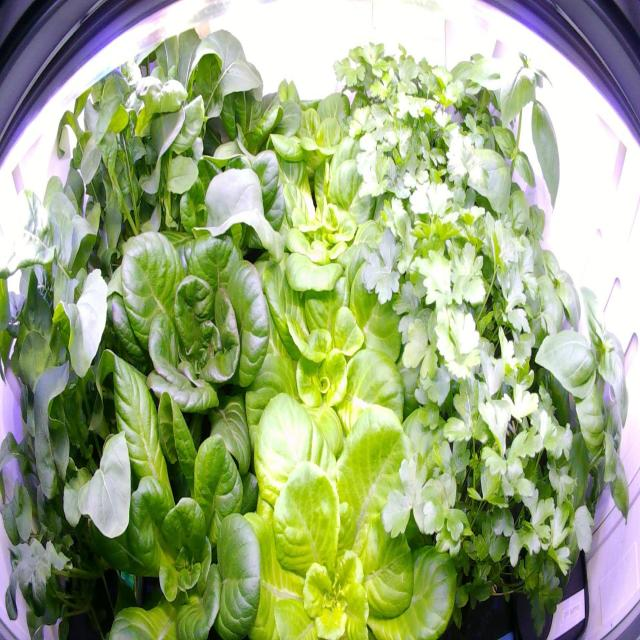Ready: (192, 366, 462, 638), (66, 340, 294, 639), (212, 240, 438, 509), (70, 216, 290, 487), (228, 135, 414, 322), (238, 72, 384, 211)
